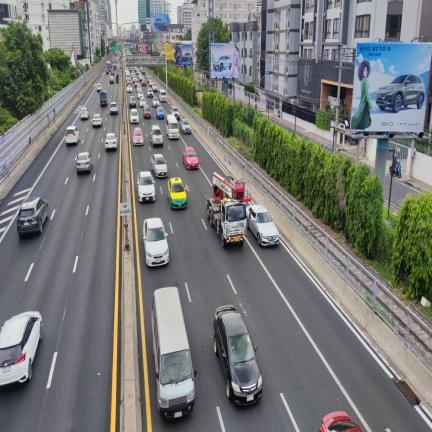car: (214, 305, 262, 404), (0, 311, 42, 385), (246, 205, 278, 245), (17, 197, 49, 236), (143, 218, 168, 266), (137, 172, 155, 201), (151, 154, 167, 176), (77, 152, 92, 173), (65, 126, 79, 145), (151, 124, 163, 146), (106, 133, 117, 151), (180, 119, 191, 133), (92, 114, 102, 127), (170, 106, 179, 120), (130, 109, 139, 122), (143, 104, 151, 118), (80, 107, 89, 119), (156, 106, 164, 118), (110, 102, 117, 114), (152, 97, 160, 106), (139, 97, 146, 107), (96, 83, 102, 92), (127, 84, 132, 92)
motorbike: (389, 162, 401, 178)
taxi: (168, 177, 187, 208), (183, 147, 198, 168), (133, 127, 143, 145)
truck: (206, 173, 251, 247), (100, 91, 107, 106)
van: (152, 287, 196, 418), (166, 114, 179, 139), (159, 89, 166, 101), (129, 96, 136, 107)
